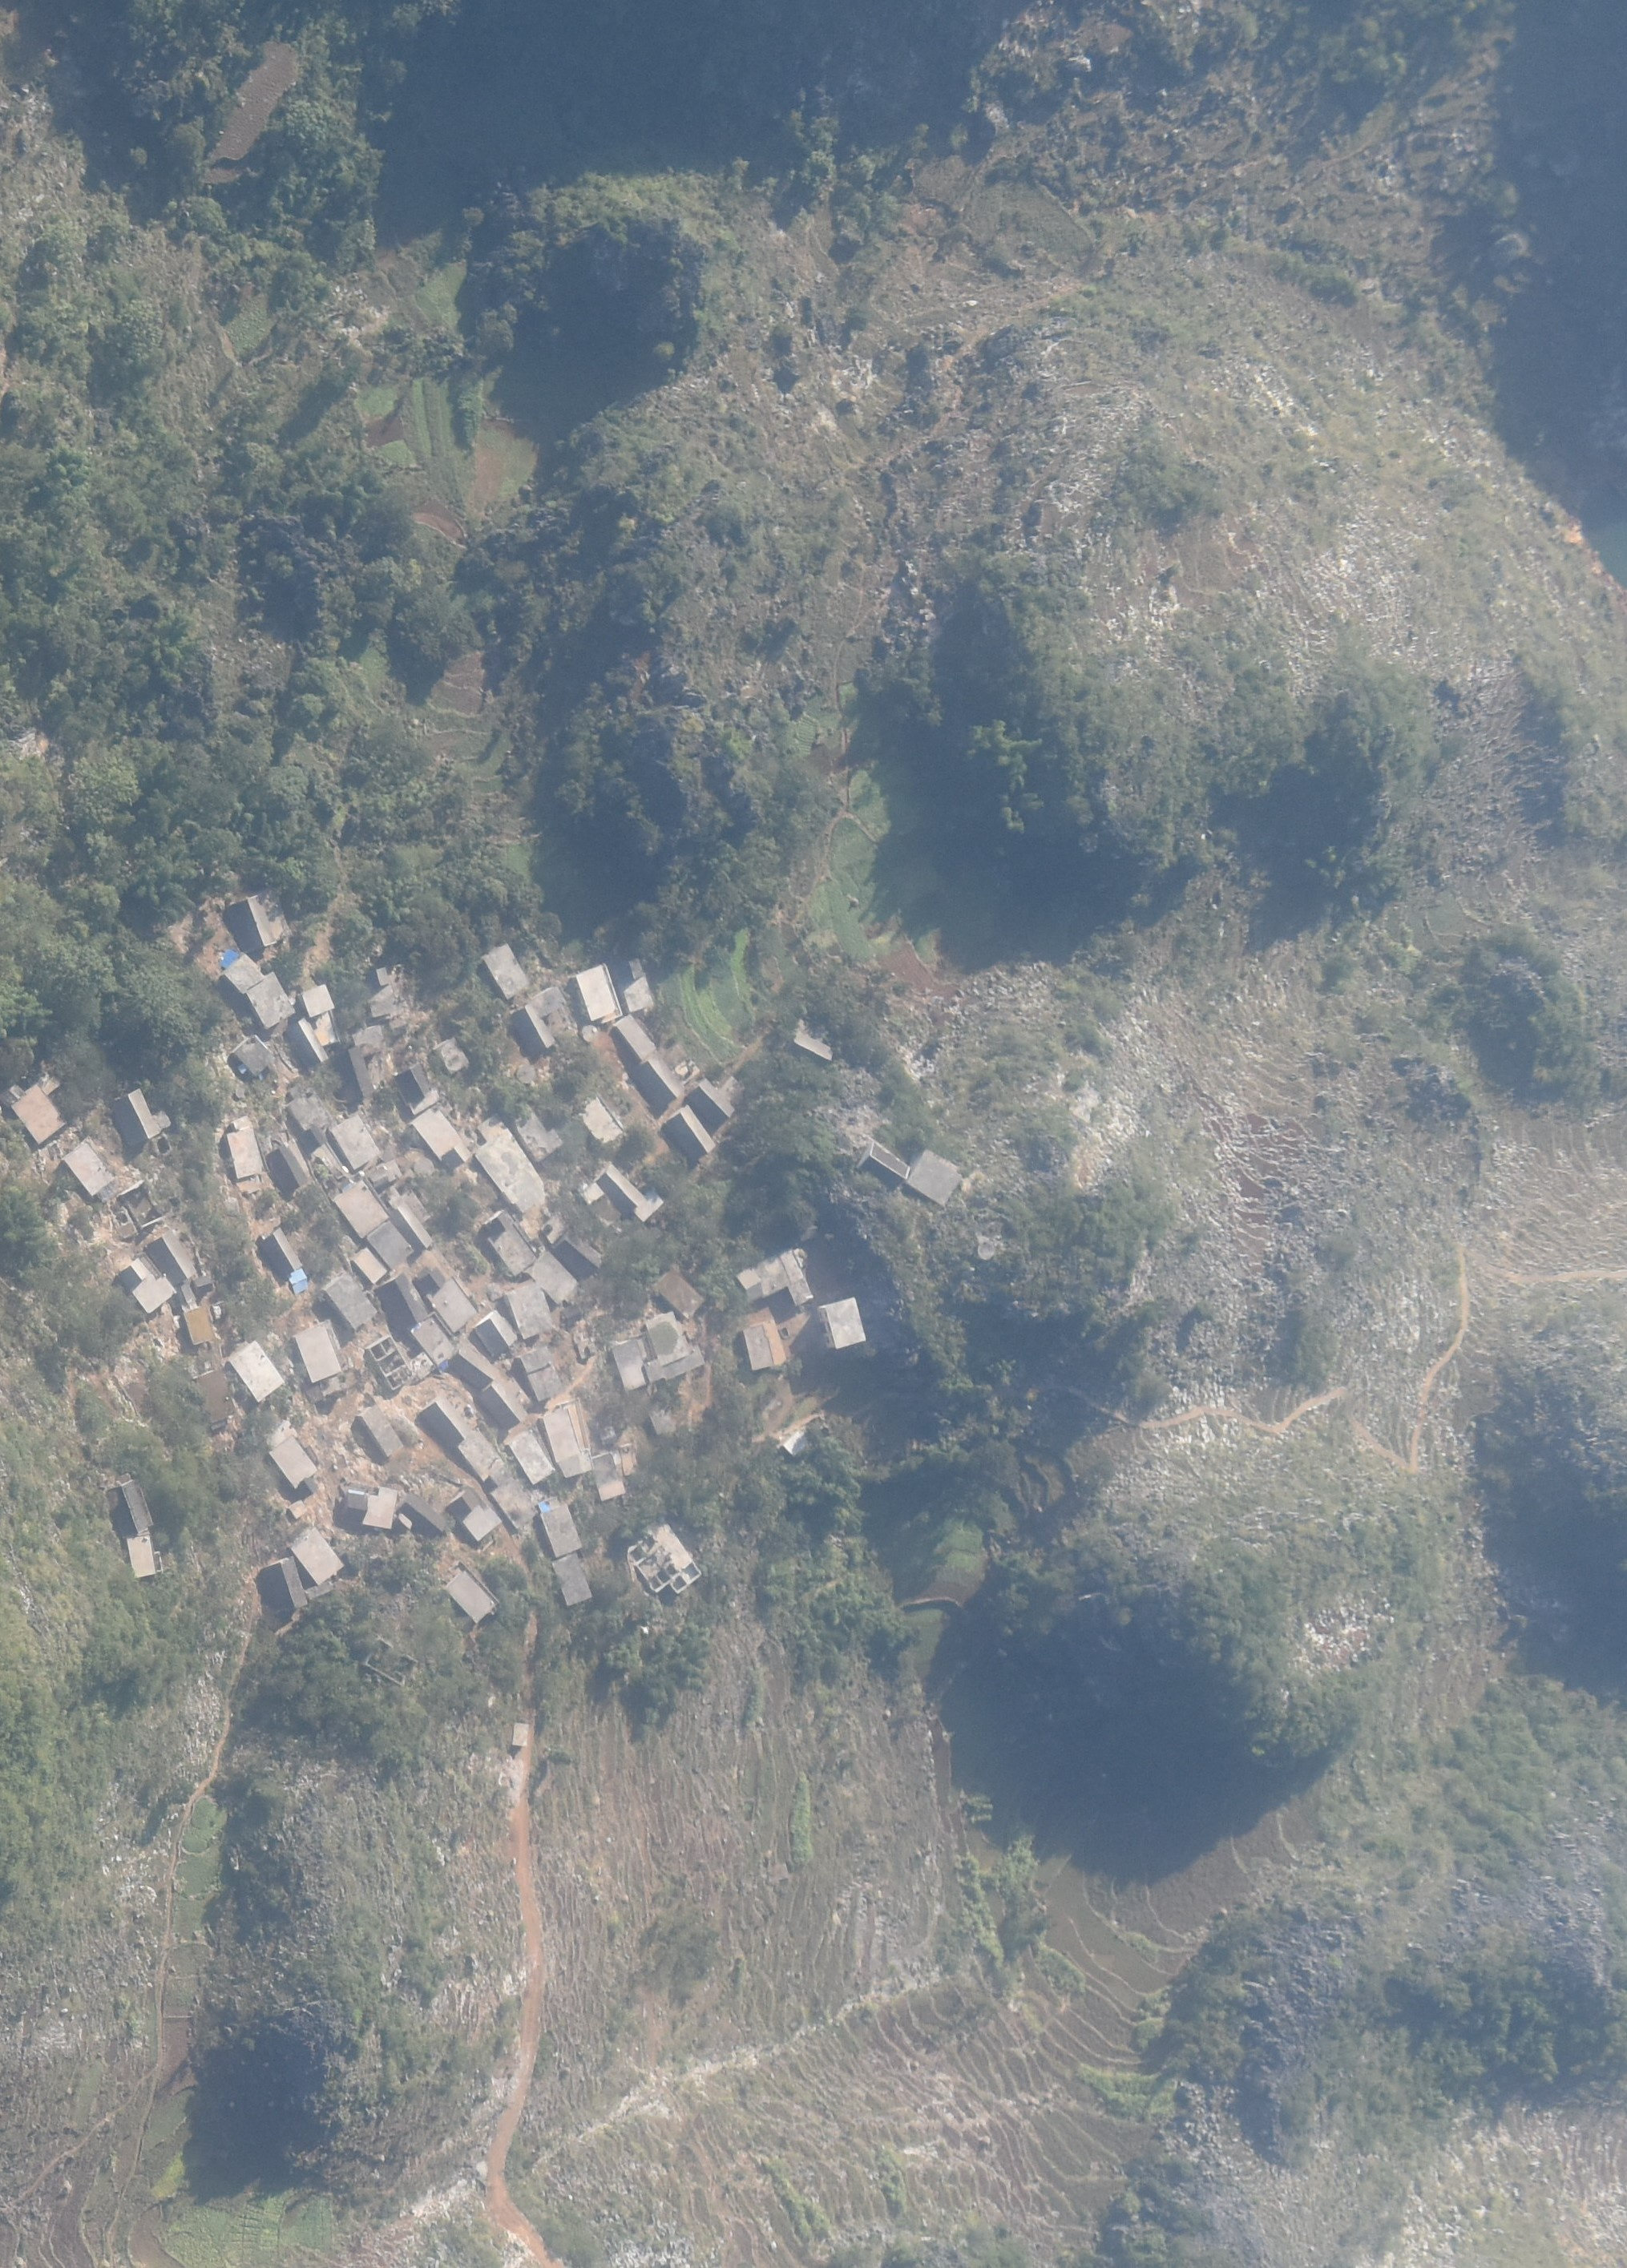building: (421, 1396, 539, 1530), (611, 1310, 704, 1389), (475, 1111, 546, 1211), (451, 1345, 528, 1426), (222, 956, 296, 1028), (581, 1164, 664, 1222), (629, 1525, 699, 1592), (734, 1248, 813, 1303), (231, 889, 294, 953), (482, 1208, 537, 1278), (268, 1417, 320, 1490), (4, 1085, 65, 1146), (903, 1145, 963, 1208), (542, 1398, 590, 1477), (421, 1266, 475, 1335), (409, 1108, 472, 1166), (333, 1180, 389, 1241), (511, 1099, 562, 1162), (377, 1270, 428, 1333), (232, 1340, 283, 1403), (120, 1259, 178, 1314), (294, 1319, 342, 1382), (294, 1527, 345, 1585), (445, 1488, 500, 1541), (664, 1104, 717, 1159), (652, 1266, 706, 1319), (326, 1275, 377, 1331), (264, 1227, 306, 1294), (227, 1116, 269, 1183), (526, 1252, 579, 1305), (366, 1636, 419, 1689), (331, 1113, 380, 1169), (109, 1086, 158, 1143), (482, 942, 530, 1000), (144, 1233, 195, 1285), (62, 1143, 113, 1196), (576, 965, 622, 1023), (447, 1571, 497, 1624), (364, 965, 410, 1021), (539, 1495, 581, 1555), (113, 1476, 155, 1535), (394, 1062, 440, 1116), (299, 984, 340, 1046), (509, 1284, 553, 1340), (688, 1078, 747, 1120), (194, 1366, 236, 1425), (380, 1182, 430, 1231), (578, 1092, 625, 1143), (357, 1405, 403, 1458), (410, 1314, 456, 1366), (301, 1127, 347, 1180), (368, 1336, 412, 1391), (264, 1555, 306, 1611), (549, 1555, 593, 1608), (345, 1486, 398, 1530), (511, 1432, 553, 1486), (398, 1493, 445, 1541), (555, 1233, 602, 1278), (741, 1321, 785, 1370), (511, 1004, 555, 1053), (859, 1143, 909, 1187), (266, 1143, 308, 1194), (824, 1296, 865, 1349), (368, 1220, 412, 1268), (389, 1203, 431, 1252), (287, 1083, 329, 1132), (615, 1014, 657, 1062), (289, 1018, 328, 1067), (477, 1312, 518, 1358), (648, 1055, 683, 1104), (232, 1034, 273, 1076), (625, 956, 655, 1012), (794, 1018, 833, 1060), (592, 1454, 625, 1502), (125, 1535, 160, 1579), (433, 1037, 470, 1078), (343, 1046, 372, 1099), (528, 983, 567, 1018), (352, 1247, 387, 1285), (185, 1305, 217, 1345), (349, 1025, 387, 1057), (648, 1398, 676, 1435), (370, 1159, 401, 1187), (409, 1352, 437, 1381), (620, 1444, 639, 1477), (784, 1428, 806, 1456), (306, 1579, 333, 1599), (40, 1072, 63, 1093), (174, 1284, 192, 1307), (512, 1722, 528, 1747), (289, 1500, 308, 1520), (192, 1277, 213, 1294)
prefabricated-house: (222, 949, 239, 968)
well: (516, 1065, 537, 1083), (581, 1023, 599, 1042), (979, 1240, 993, 1261)
